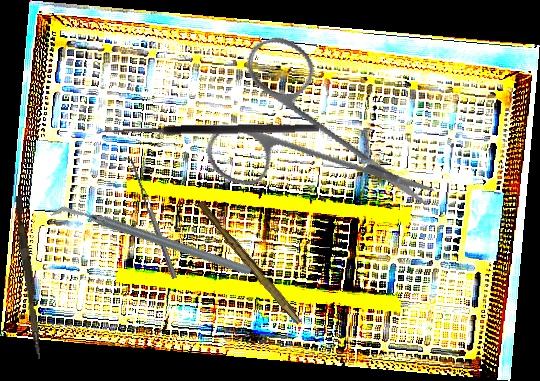Chopper: (47, 142, 254, 341)
Hook Surgical: (99, 122, 320, 147)
Iris Scissors: (179, 5, 438, 265)
Pusher: (10, 195, 48, 360)
Scalpel Handle: (194, 200, 306, 325)
Spatula Surgical: (122, 154, 178, 281)
